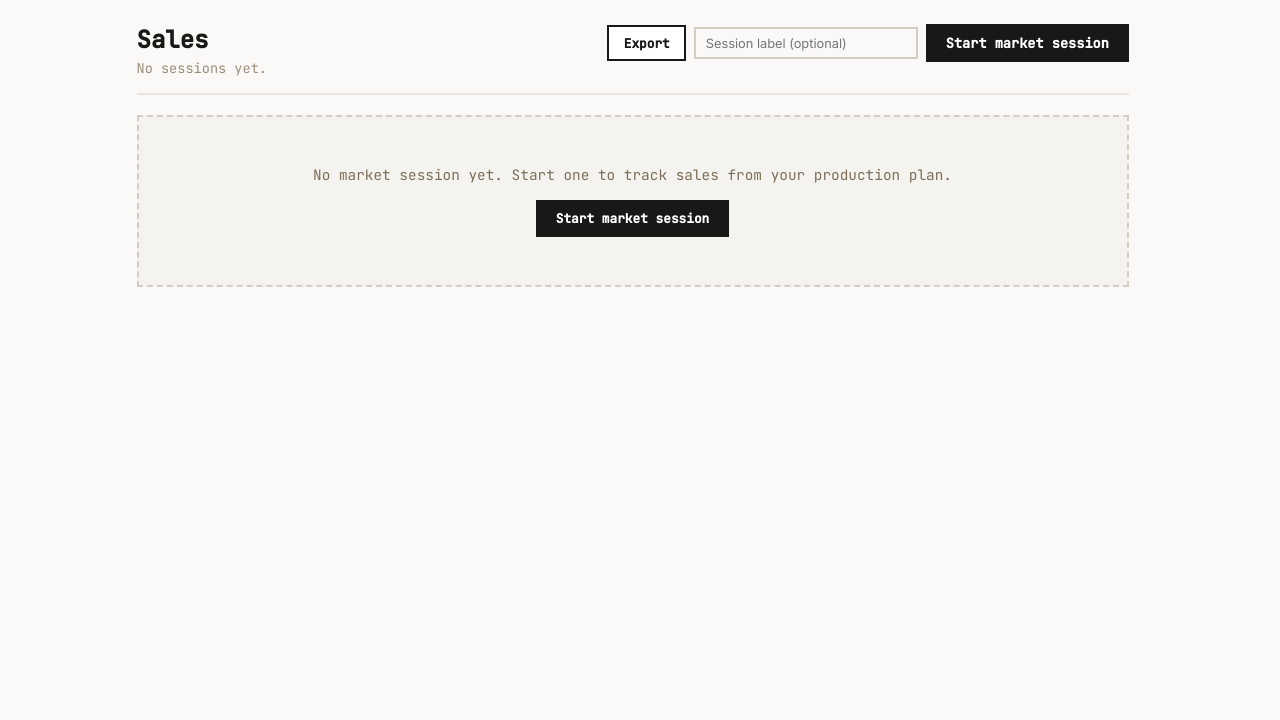
Scenario: SalesView › records a transaction and updates session totals + persists
The width and height of the screenshot is (1280, 720).
Click the button with test id "sales-start-btn" at (1027, 43), box [926, 24, 1128, 62]
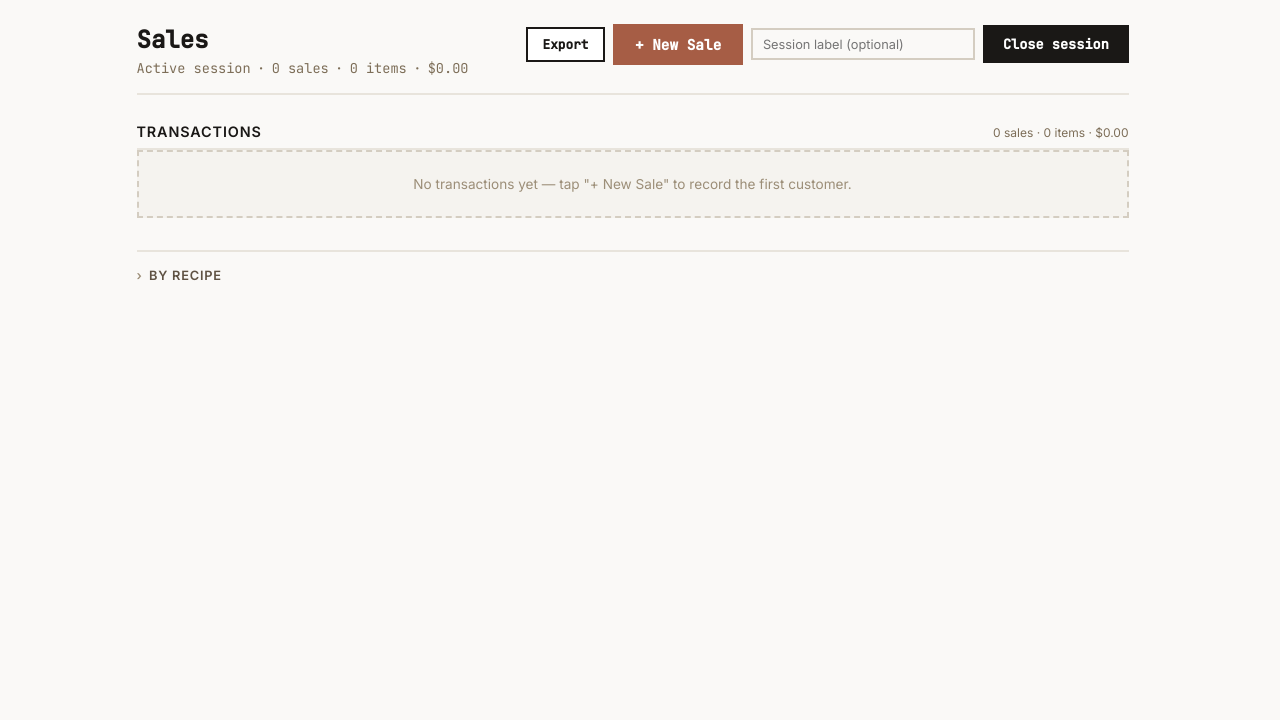
# Open New Sale sheet, build cart, complete.
Click the button with test id "sales-new-sale-btn" at (678, 44), box [613, 24, 743, 65]
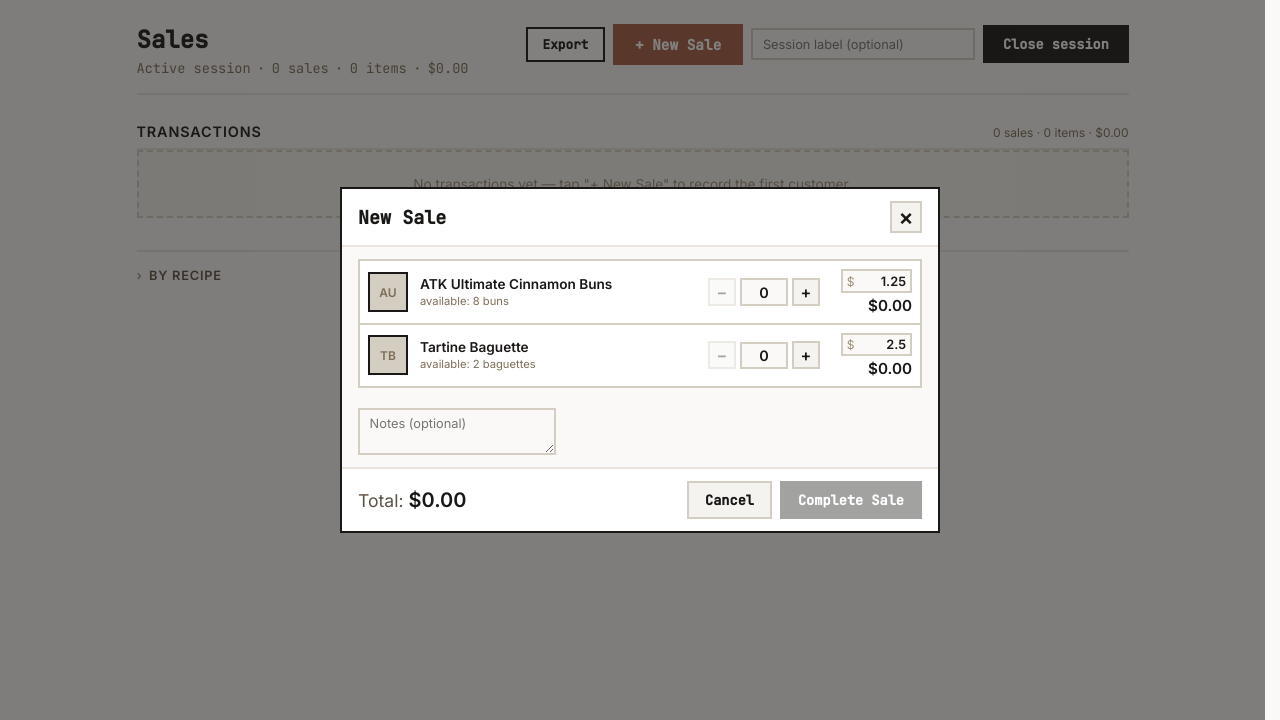
Click the button with test id "new-sale-inc-atk-cinnamon-buns-ultimate" at (806, 292), box [792, 278, 820, 306]
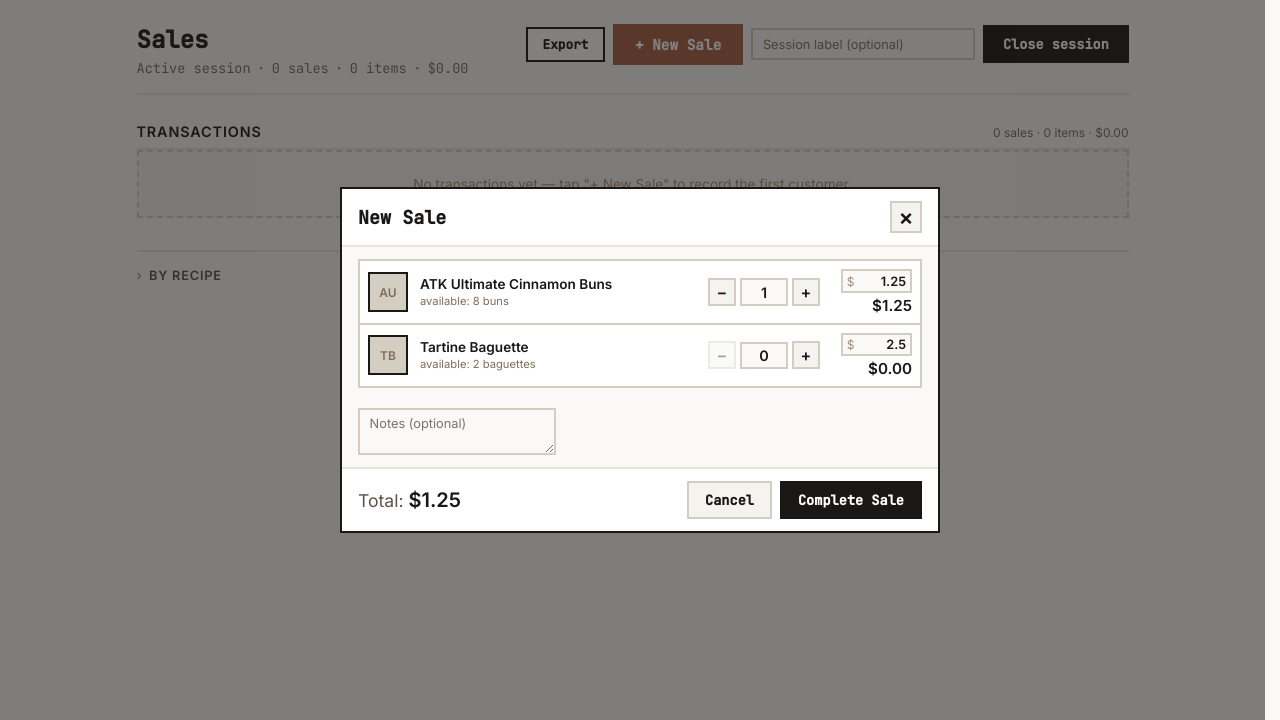
Click the button with test id "new-sale-inc-atk-cinnamon-buns-ultimate" at (806, 292), box [792, 278, 820, 306]
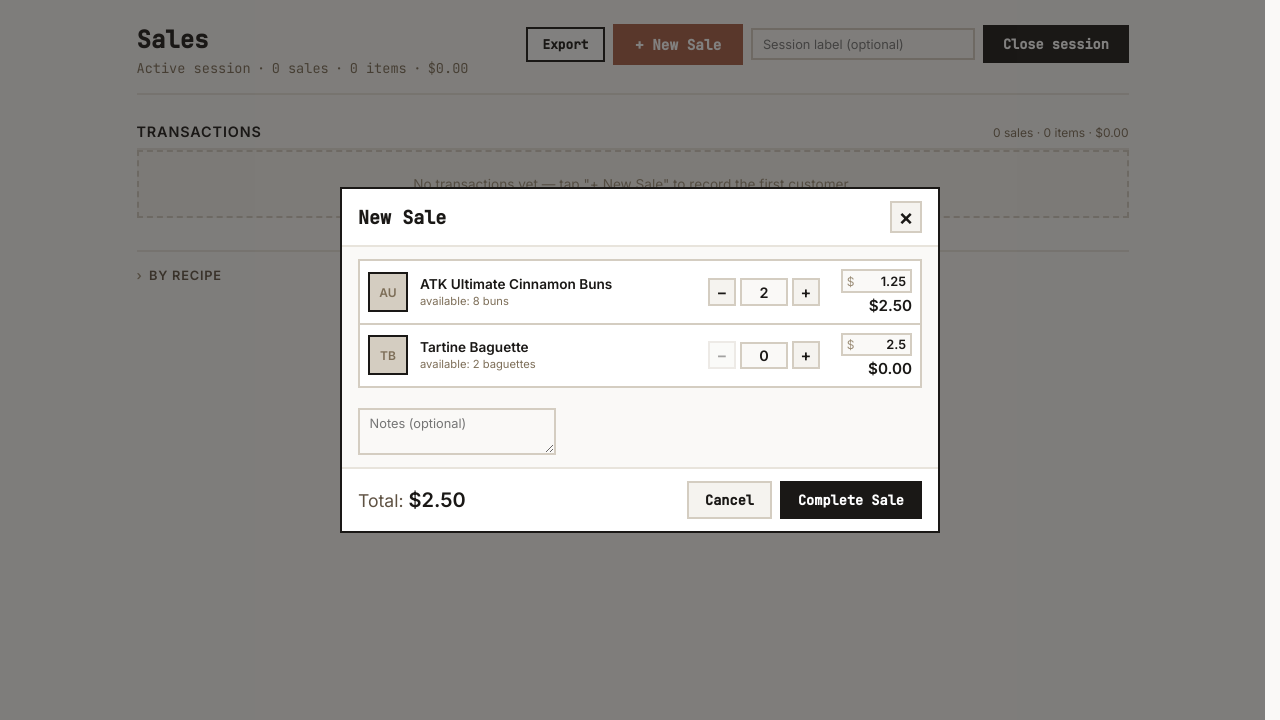
Click the button with test id "new-sale-inc-tartine-baguette" at (806, 355), box [792, 341, 820, 369]
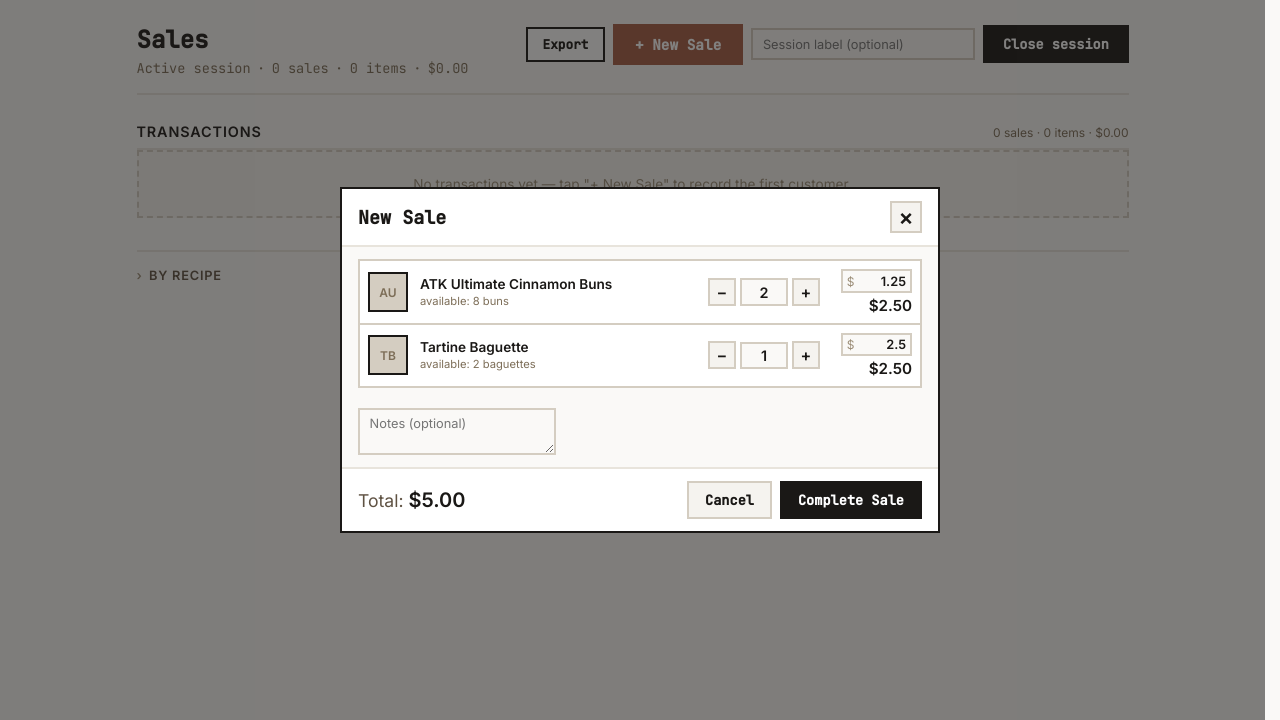
Click the button with test id "new-sale-complete" at (851, 500), box [780, 481, 922, 519]
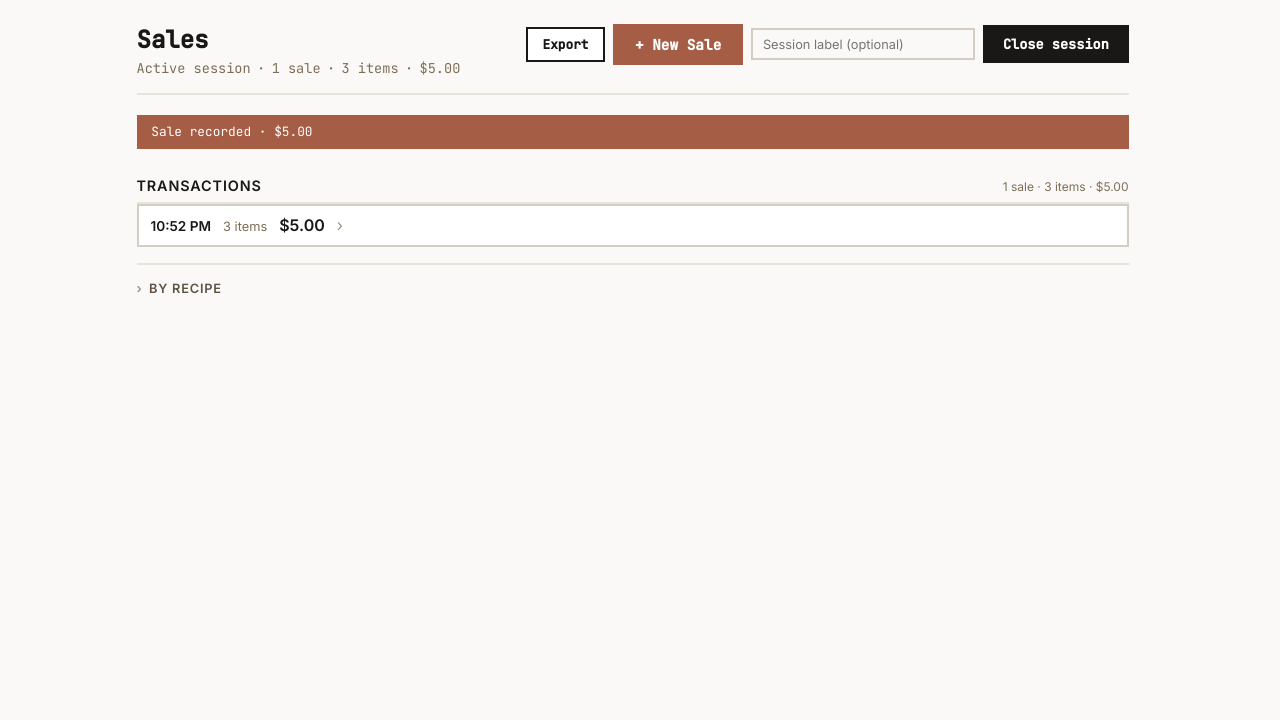
Expected: the element with test id "sales-subtitle" shows "1 sale", [272, 59, 320, 77]
Expected: the element with test id "sales-subtitle" shows "3 items", [342, 59, 399, 77]
Expected: the message "Sale recorded · $5.00" is shown, [136, 115, 1128, 149]
